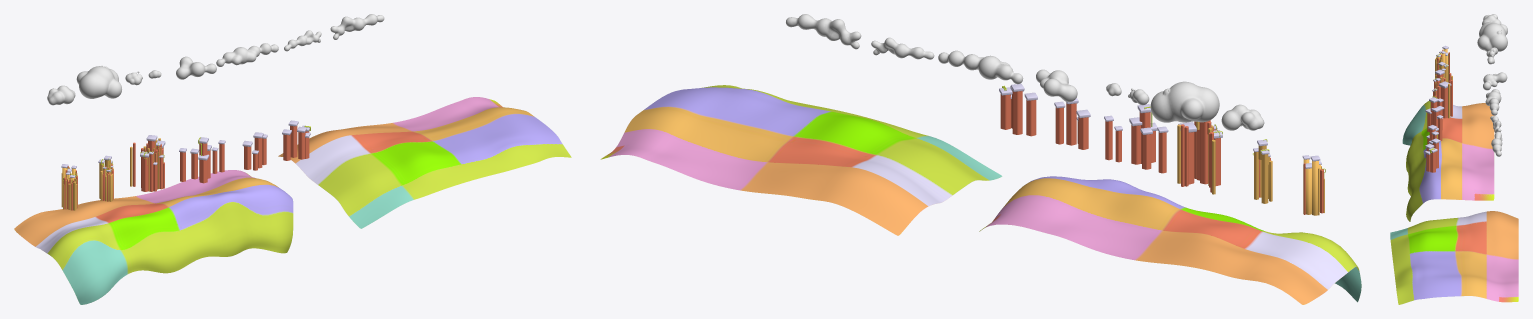
Rendered from BACKGROUND.fbx.
3 renders of one model, left to right at view 1: azimuth 30°, elevation 25°; view 2: azimuth 150°, elevation 25°; view 3: azimuth 270°, elevation 25°, orthographic. The views are drawn at different scales.
Parts seen in each view (by area): view 1: BK_Ground_A, BK_Ground_B, BK_tower_C, BK_tower_D, BK_cloud_B, BK_tower_F, BK_Bush_B, BK_tower_B, BK_tower_E, BK_tower_A, BK_Bush_D, BK_Bush_A (+2 smaller); view 2: BK_Ground_B, BK_Ground_A, BK_tower_C, BK_tower_D, BK_cloud_B, BK_tower_F, BK_tower_E, BK_Bush_B, BK_tower_B, BK_Bush_D, BK_tower_A, BK_Bush_A (+2 smaller); view 3: BK_Ground_B, BK_Ground_A, BK_cloud_B, BK_tower_C, BK_tower_D, BK_tower_F, BK_Bush_B, BK_Bush_A, BK_tower_B, BK_Bush_D, BK_tower_E, BK_cloud_A (+2 smaller).
Part boxes in pixels (x1=…): BK_Ground_A: x1=14, y1=170, x2=293, y2=304; BK_Ground_B: x1=278, y1=97, x2=571, y2=228; BK_tower_C: x1=130, y1=135, x2=165, y2=191; BK_tower_D: x1=179, y1=137, x2=225, y2=183; BK_cloud_B: x1=76, y1=65, x2=121, y2=98; BK_tower_F: x1=282, y1=120, x2=310, y2=160; BK_Bush_B: x1=216, y1=43, x2=278, y2=66; BK_tower_B: x1=61, y1=164, x2=77, y2=210; BK_tower_E: x1=242, y1=132, x2=267, y2=170; BK_tower_A: x1=98, y1=155, x2=113, y2=201; BK_Bush_D: x1=330, y1=14, x2=384, y2=39; BK_Bush_A: x1=176, y1=56, x2=216, y2=79; BK_Ground_B: x1=600, y1=85, x2=1002, y2=235; BK_Ground_A: x1=979, y1=176, x2=1361, y2=304; BK_tower_C: x1=1177, y1=120, x2=1222, y2=194; BK_tower_D: x1=1104, y1=104, x2=1168, y2=173; BK_cloud_B: x1=1150, y1=81, x2=1219, y2=122; BK_tower_F: x1=999, y1=83, x2=1037, y2=136; BK_tower_E: x1=1054, y1=98, x2=1090, y2=149; BK_Bush_B: x1=938, y1=50, x2=1023, y2=84; BK_tower_B: x1=1302, y1=155, x2=1325, y2=215; BK_Bush_D: x1=786, y1=14, x2=861, y2=49; BK_tower_A: x1=1253, y1=139, x2=1272, y2=203; BK_Bush_A: x1=1036, y1=69, x2=1077, y2=102; BK_Ground_B: x1=1390, y1=211, x2=1518, y2=304; BK_Ground_A: x1=1402, y1=101, x2=1494, y2=221; BK_cloud_B: x1=1477, y1=21, x2=1507, y2=51; BK_tower_C: x1=1432, y1=69, x2=1452, y2=118; BK_tower_D: x1=1425, y1=96, x2=1444, y2=140; BK_tower_F: x1=1424, y1=138, x2=1440, y2=172; BK_Bush_B: x1=1485, y1=89, x2=1501, y2=115; BK_Bush_A: x1=1483, y1=72, x2=1507, y2=90; BK_tower_B: x1=1435, y1=45, x2=1449, y2=82; BK_Bush_D: x1=1491, y1=131, x2=1502, y2=156; BK_tower_E: x1=1426, y1=125, x2=1438, y2=144; BK_cloud_A: x1=1482, y1=14, x2=1501, y2=25.
Bounding box in the file's own units: 43563 × 14979 × 12000.
